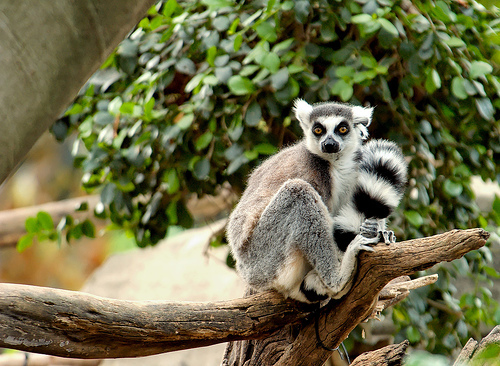cat: (223, 93, 413, 311)
